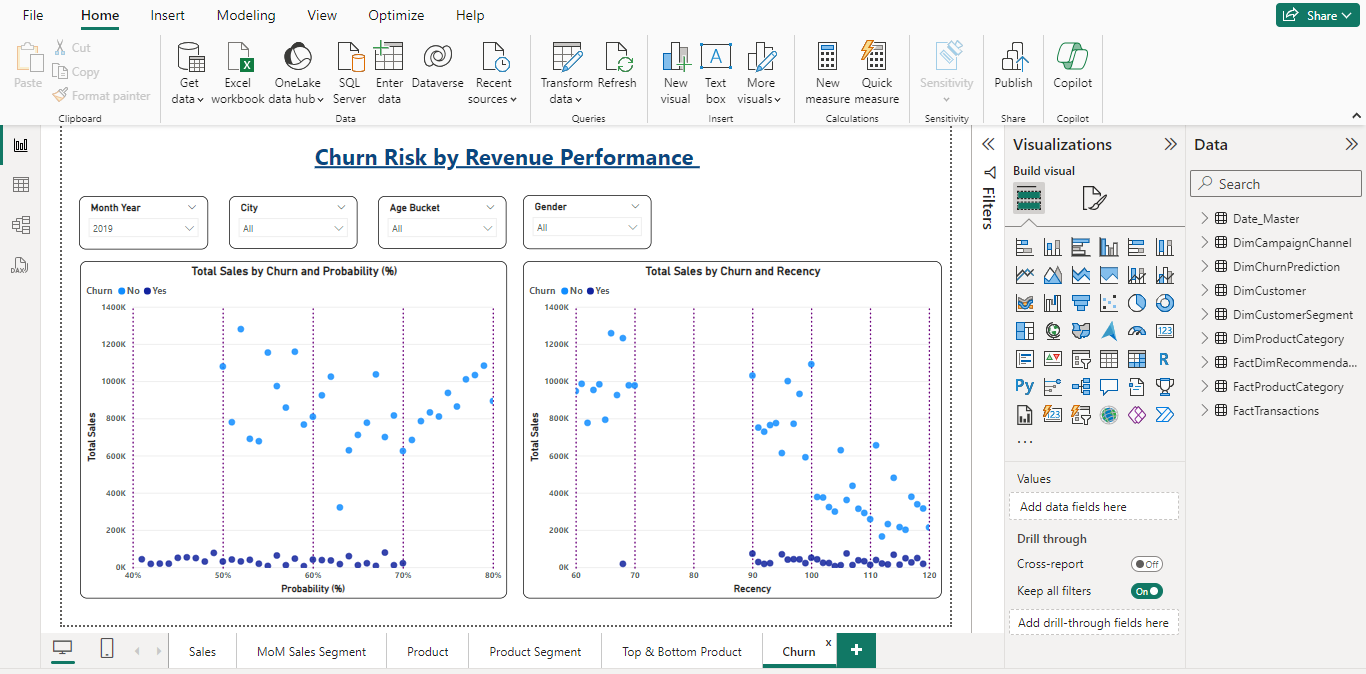

The dashboard page shown, as its layout file describes it:
{"tool":"powerbi","page":{"name":"Churn","canvas":[1280,720],"ordinal":5},"visuals":[{"type":"scatterChart","fields":{"Y":["FactTransactions.Total_sales"],"X":["FactChurnPrediction.PROBABILITY (%)"],"Series":["FactChurnPrediction.CHURN"]},"box":[25.4,195.4,614.6,486.3],"z":0},{"type":"scatterChart","fields":{"Series":["FactChurnPrediction.CHURN"],"Y":["FactTransactions.Total_sales"],"X":["FactChurnPrediction.RECENCY"]},"box":[663.9,195.4,602.7,486.3],"z":1000},{"type":"slicer","fields":{"Values":["DimCustomer.CITY"]},"box":[240.2,102.9,185,76.1],"z":2000},{"type":"slicer","fields":{"Values":["DimCustomer.Age Bucket"]},"box":[455,102.9,185,76.1],"z":3000},{"type":"slicer","fields":{"Values":["DimCustomer.GENDER"]},"box":[663.9,101.4,185,77.6],"z":4000},{"type":"slicer","fields":{"Values":["Date_Master.Year","Date_Master.Month Text"]},"box":[25.1,101.9,186,76.8],"z":5000},{"type":"textbox","box":[335.1,17.7,611.2,65],"z":6000}]}

Visuals, with their boxes on the page's 1280x720 design canvas (x1, y1, x2, y2). These are canvas units, not pixel positions in the 1366x674 screenshot, which may show the page scaled, cropped or inside an application window:
scatterChart - FactTransactions.Total_sales x FactChurnPrediction.PROBABILITY (%): locate(25, 195, 640, 682)
scatterChart - FactChurnPrediction.CHURN x FactTransactions.Total_sales: locate(664, 195, 1267, 682)
slicer - DimCustomer.CITY: locate(240, 103, 425, 179)
slicer - DimCustomer.Age Bucket: locate(455, 103, 640, 179)
slicer - DimCustomer.GENDER: locate(664, 101, 849, 179)
slicer - Date_Master.Year x Date_Master.Month Text: locate(25, 102, 211, 179)
textbox: locate(335, 18, 946, 83)
